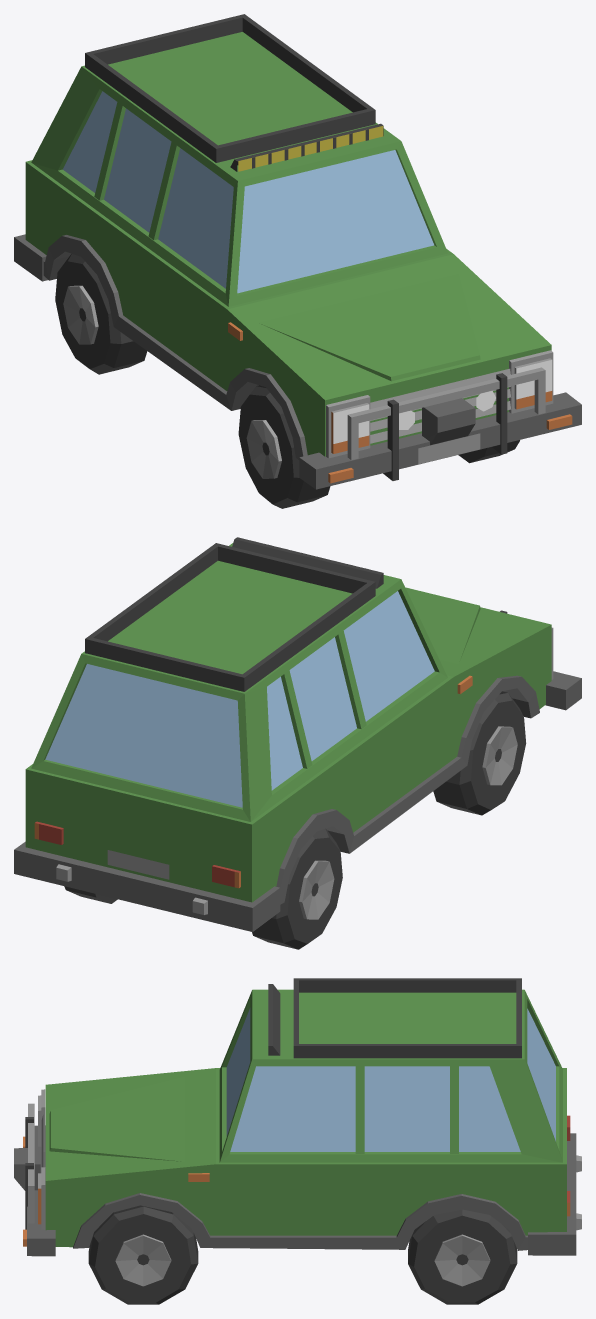
File: transport_jeep_002.glb
3 views of the same model, one above another, from view 1: azimuth 30°, elevation 25°; view 2: azimuth 150°, elevation 25°; view 3: azimuth 270°, elevation 25° (orthographic). The views are drawn at different scales.
Parts seen in each view (by area): view 1: transport_jeep_002; view 2: transport_jeep_002; view 3: transport_jeep_002.
Boxes of the visible parts, x1=… form: transport_jeep_002: x1=14, y1=14, x2=581, y2=508; transport_jeep_002: x1=14, y1=537, x2=581, y2=949; transport_jeep_002: x1=14, y1=978, x2=581, y2=1304.
Size of the model in its own units: 1.7 by 1.73 by 3.61.
Materials: 1 (1 with a texture image).
